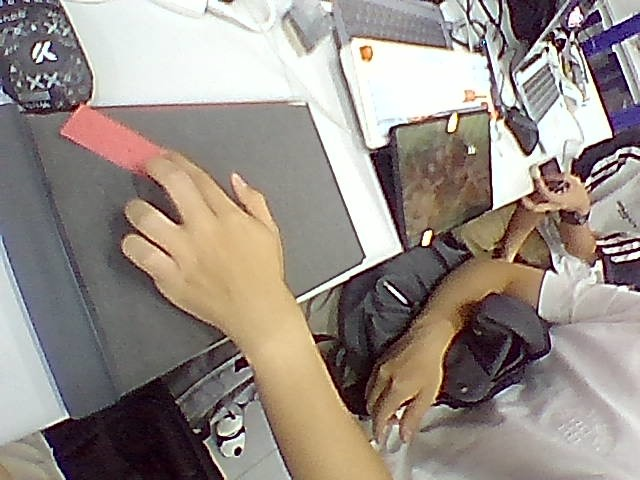card: (61, 106, 163, 172)
